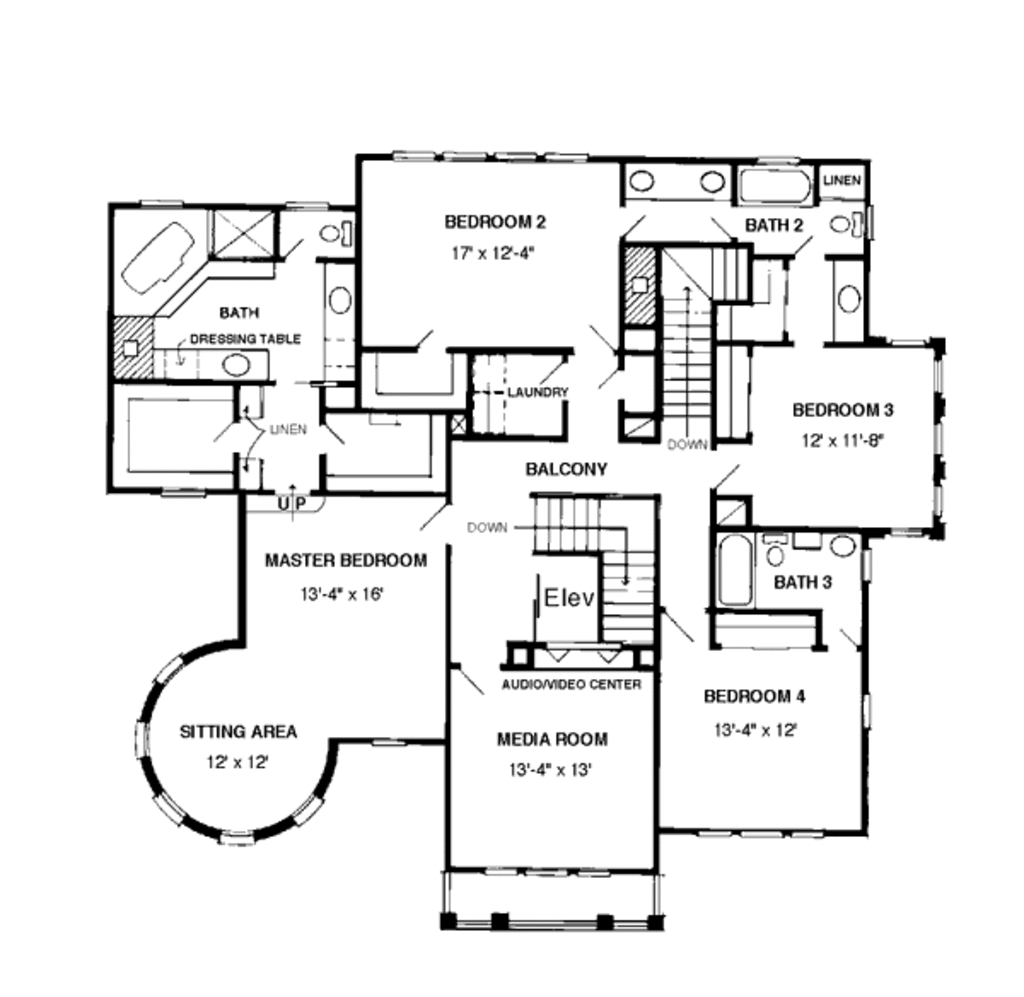door: (404, 490, 466, 547), (662, 601, 709, 654), (454, 662, 501, 709), (533, 350, 570, 394), (818, 621, 862, 656), (584, 319, 621, 357), (407, 323, 447, 357)
large_sink: (754, 530, 796, 585), (308, 218, 363, 256), (831, 202, 869, 252)
small_sink: (627, 152, 730, 204), (200, 342, 276, 386), (832, 259, 862, 341), (313, 277, 356, 334), (829, 534, 863, 561)
stairs: (659, 235, 792, 455), (518, 487, 655, 649)
tub: (121, 210, 196, 300), (717, 529, 760, 617), (739, 166, 823, 205)
window: (492, 136, 595, 170), (140, 653, 198, 705), (149, 785, 191, 838), (437, 139, 498, 170), (125, 714, 165, 760), (217, 820, 260, 853), (284, 793, 320, 825), (386, 151, 440, 168)
